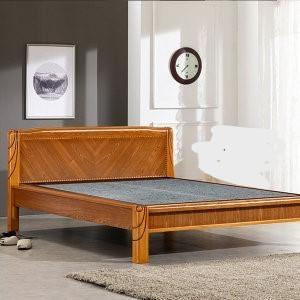Bed-Mattress: (6, 118, 299, 268)
